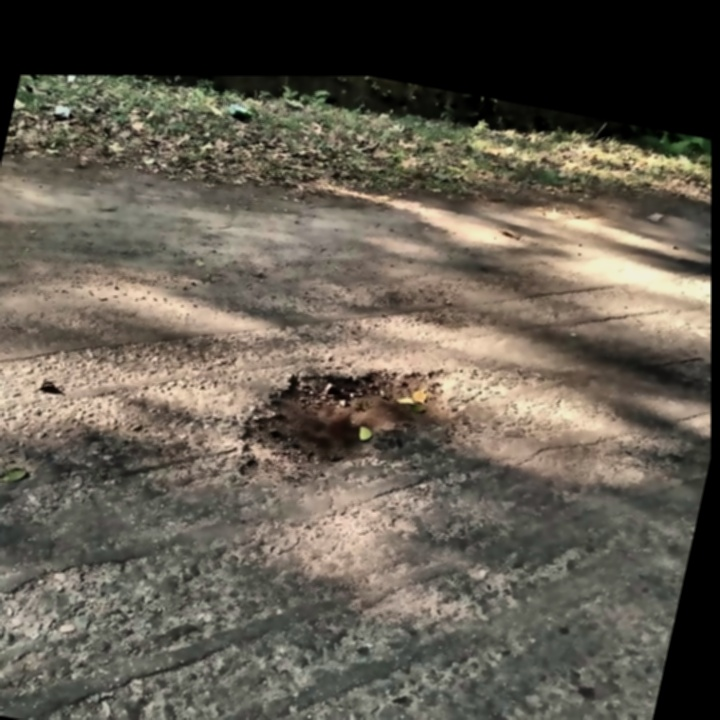pothole: (224, 329, 470, 519)
